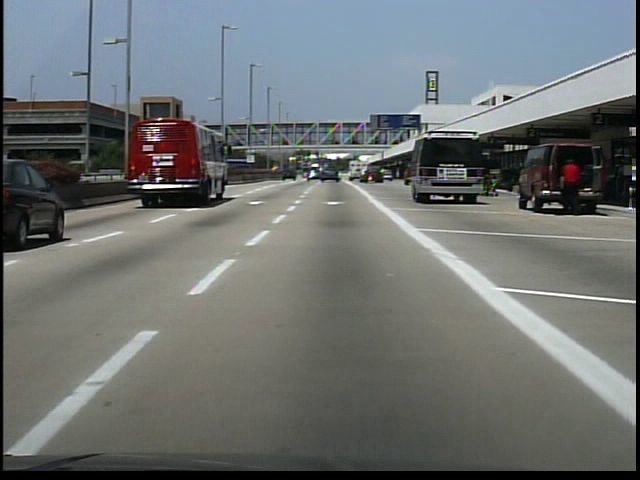person: (560, 156, 581, 215)
